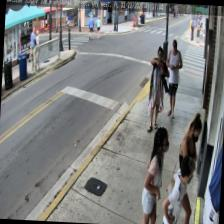person: (169, 110, 201, 224), (139, 124, 169, 224), (160, 153, 195, 224), (147, 45, 170, 131), (162, 38, 184, 118)
